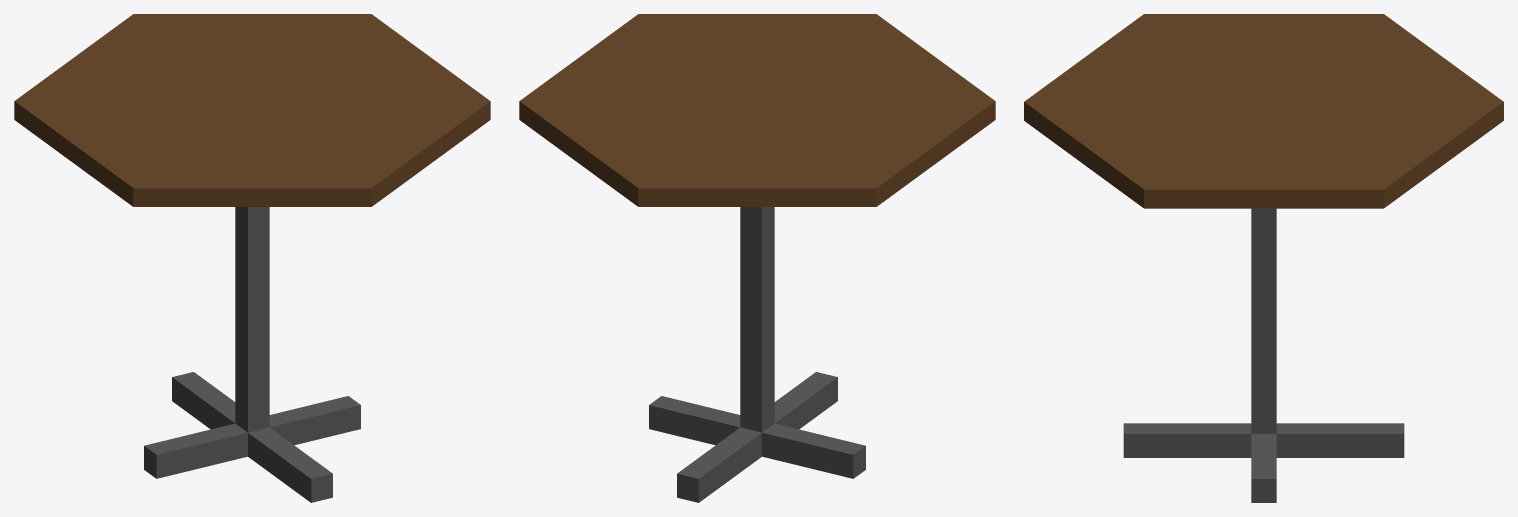
The model's file is circle_table_tall.fbx.
The picture shows the model from 3 angles, left to right: view 1: azimuth 30°, elevation 25°; view 2: azimuth 150°, elevation 25°; view 3: azimuth 270°, elevation 25°; orthographic projection.
Parts seen in each view (by area): view 1: Cylinder, Cylinder_cell.004, Cylinder_cell.003, Cube, Cube_cell, Cylinder_cell, Cylinder_cell.002, Cube_cell.003, Cube_cell.002, Cube_cell.001, Cylinder_cell.001; view 2: Cylinder, Cylinder_cell.004, Cylinder_cell.003, Cube_cell, Cube, Cube_cell.001, Cube_cell.003, Cube_cell.004, Cube_cell.002; view 3: Cylinder, Cylinder_cell.004, Cylinder_cell.003, Cube_cell, Cube, Cylinder_cell.001, Cube_cell.003.
Boxes of the visible parts, x1,y1,x2,y2 form: Cylinder: (14, 16, 490, 206); Cylinder_cell.004: (14, 14, 251, 206); Cylinder_cell.003: (134, 14, 429, 100); Cube: (144, 207, 360, 502); Cube_cell: (199, 207, 315, 462); Cylinder_cell: (133, 154, 431, 206); Cylinder_cell.002: (133, 188, 371, 197); Cube_cell.003: (172, 372, 223, 417); Cube_cell.002: (271, 451, 311, 502); Cube_cell.001: (144, 433, 214, 478); Cylinder_cell.001: (431, 102, 490, 160); Cylinder: (519, 14, 995, 206); Cylinder_cell.004: (639, 101, 995, 206); Cylinder_cell.003: (519, 58, 756, 201); Cube_cell: (689, 207, 806, 476); Cube: (649, 207, 837, 492); Cube_cell.001: (799, 431, 865, 478); Cube_cell.003: (677, 451, 730, 502); Cube_cell.004: (649, 405, 705, 439); Cube_cell.002: (798, 377, 837, 429); Cylinder: (1024, 14, 1503, 208); Cylinder_cell.004: (1145, 14, 1502, 101); Cylinder_cell.003: (1263, 101, 1503, 208); Cube_cell: (1196, 208, 1342, 458); Cube: (1123, 208, 1404, 494); Cylinder_cell.001: (1084, 146, 1264, 208); Cube_cell.003: (1338, 423, 1404, 457).
Bounding box in the file's own units: 595 × 555 × 687.
